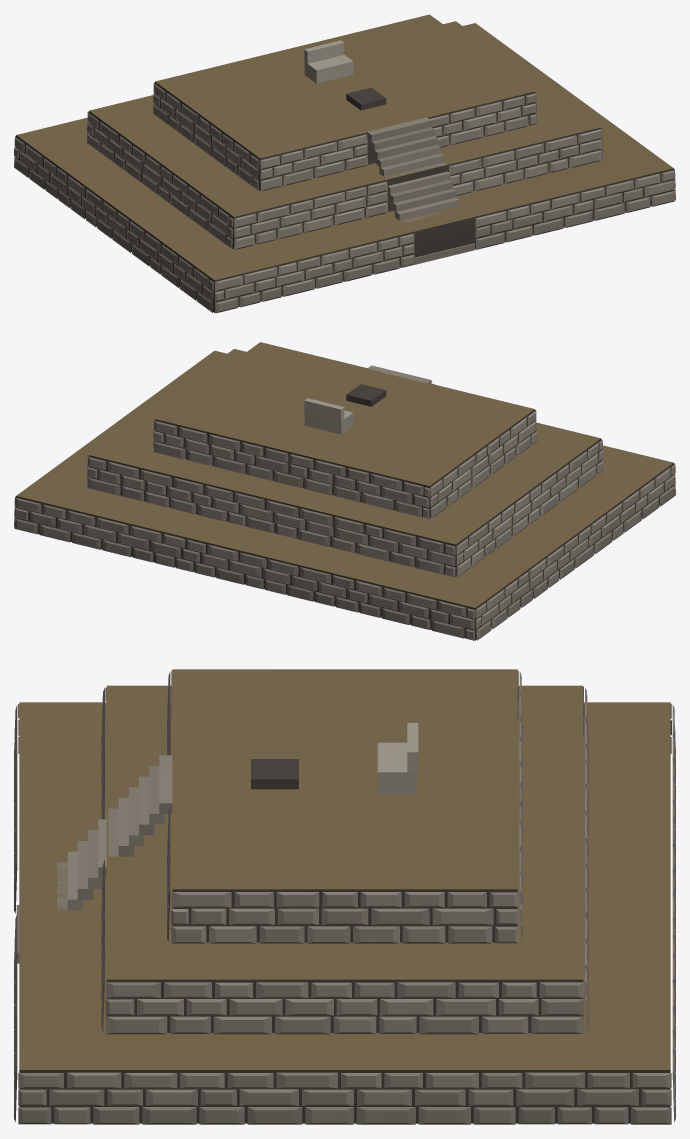
File: cusco_ushnu_lod0.glb
3 renders of one model, top to bottom at view 1: azimuth 30°, elevation 25°; view 2: azimuth 150°, elevation 25°; view 3: azimuth 270°, elevation 25°, orthographic. The views are drawn at different scales.
Visible parts, largest first — view 1: GEO-Arch_cusco_ushnu_LOD0; view 2: GEO-Arch_cusco_ushnu_LOD0; view 3: GEO-Arch_cusco_ushnu_LOD0.
Part boxes in pixels (left/top/right/bottom): GEO-Arch_cusco_ushnu_LOD0: left=14, top=14, right=675, bottom=313; GEO-Arch_cusco_ushnu_LOD0: left=14, top=342, right=675, bottom=640; GEO-Arch_cusco_ushnu_LOD0: left=14, top=669, right=675, bottom=1124.
Size of the model in its own units: 20.14 by 5.1 by 15.14.
